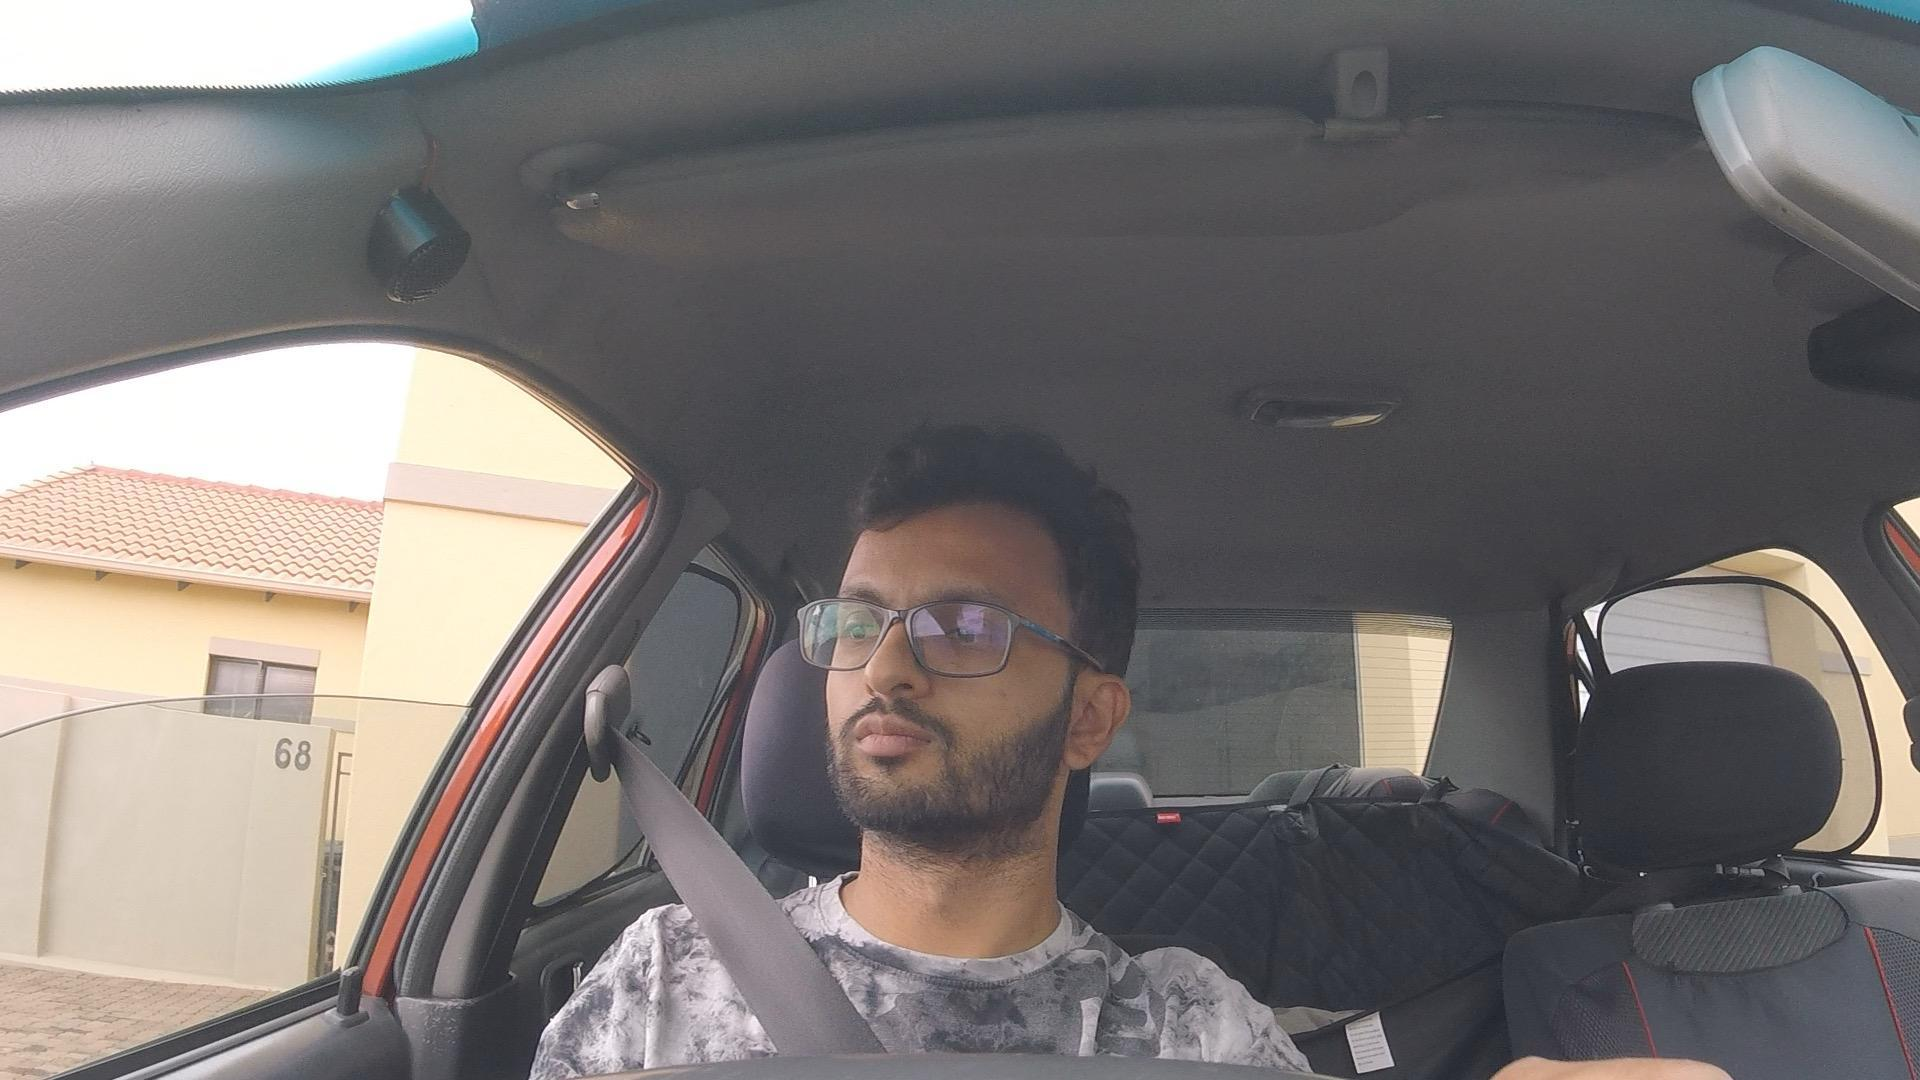SafeDriving: (793, 417, 1145, 857)
